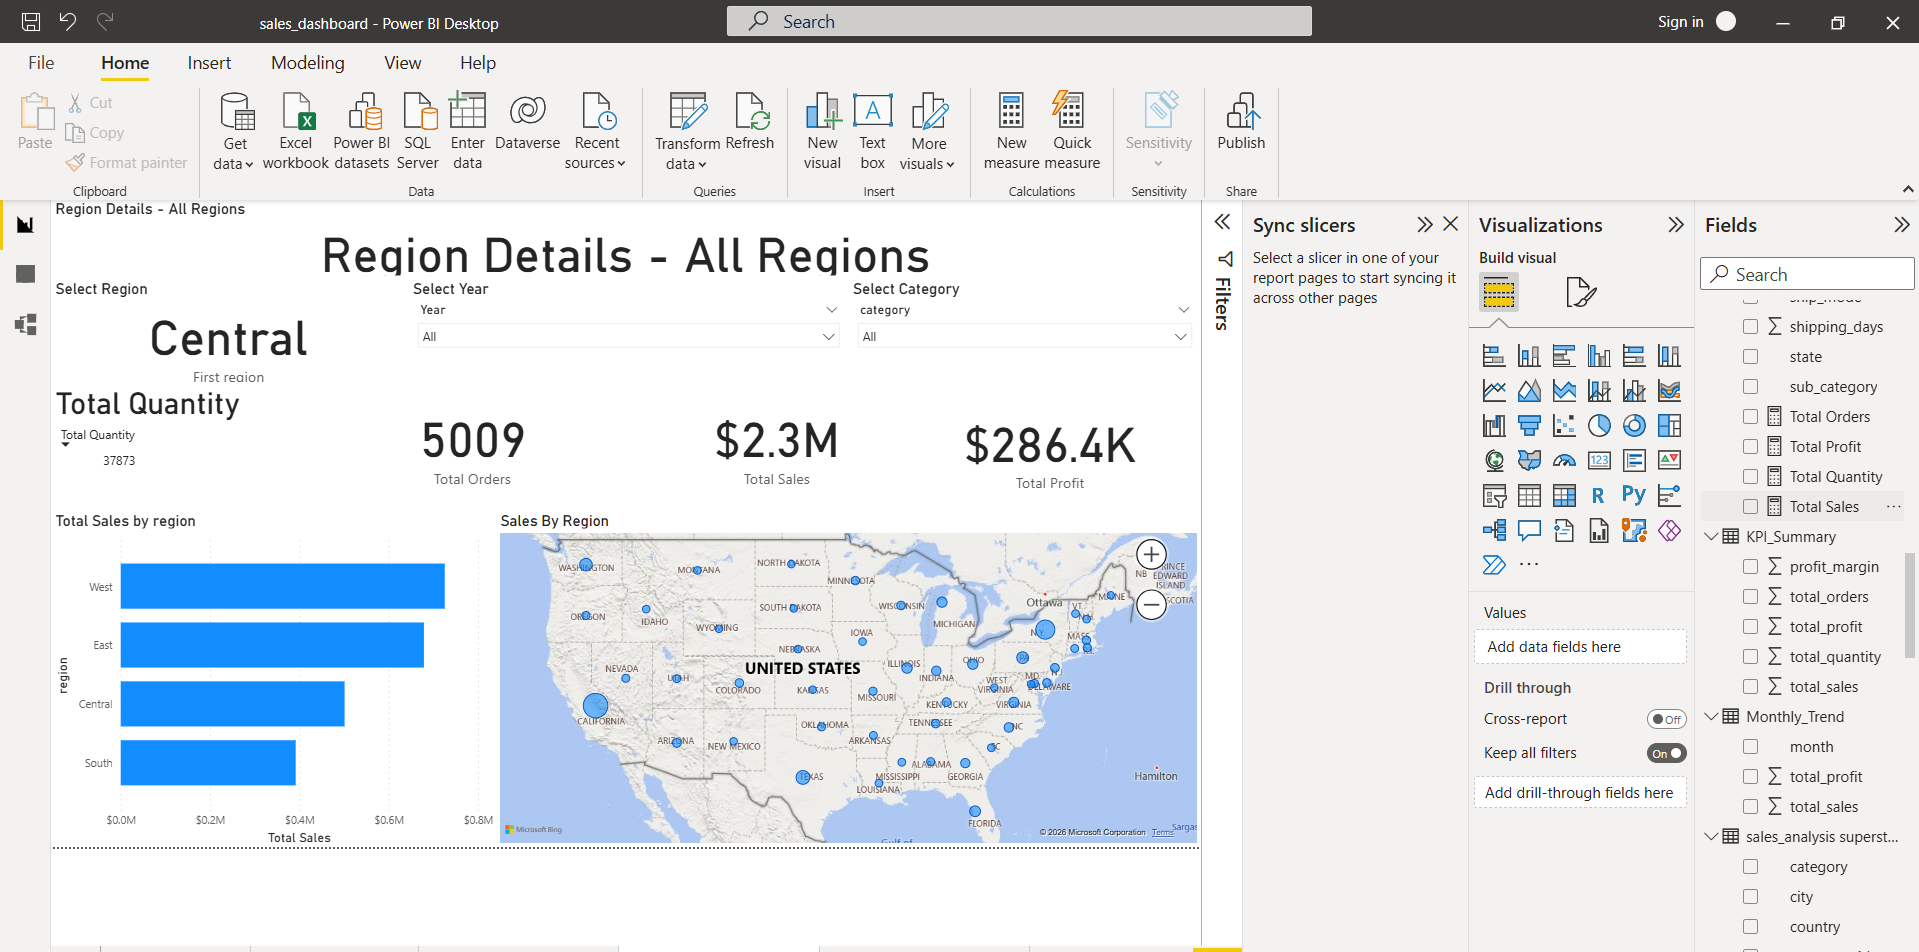

The dashboard page shown, as its layout file describes it:
{"tool":"powerbi","page":{"name":"Regional Performance","canvas":[1280,720],"ordinal":3},"visuals":[{"type":"tableEx","title":"Total Quantity","fields":{"Values":["Fact_sales.Total Quantity"]},"box":[0,207.8,279.9,128.4],"z":0},{"type":"map","title":"Sales By Region","fields":{"Category":["Fact_sales.state"],"Size":["Fact_sales.Total Sales"]},"box":[495.1,345.9,784.8,374.1],"z":1000},{"type":"slicer","title":"Select Year","fields":{"Values":["Date_Dim.Year"]},"box":[397.3,89.2,490.2,118.6],"z":2000},{"type":"slicer","title":"Select Category","fields":{"Values":["Fact_sales.category"]},"box":[887.5,89.2,392.4,118.6],"z":3000},{"type":"card","title":"Select Region","fields":{"Values":["Min(Fact_sales.region)"]},"box":[0,89.2,396.1,118.6],"z":4000},{"type":"card","fields":{"Values":["Fact_sales.Total Orders"]},"box":[279.9,207.8,378.9,128.4],"z":5000},{"type":"card","fields":{"Values":["Fact_sales.Total Sales"]},"box":[640.5,207.8,336.2,128.4],"z":6000},{"type":"card","fields":{"Values":["Fact_sales.Total Profit"]},"box":[944.9,207.8,334.9,138.1],"z":7000},{"type":"clusteredBarChart","fields":{"Category":["Fact_sales.region"],"Y":["Fact_sales.Total Sales"]},"box":[0,345.9,497.5,376.5],"z":8000},{"type":"card","fields":{"Values":["Category_Performance.Region Details Title"]},"box":[0,0,1279.9,89.2],"z":9000}]}

Visuals, with their boxes on the page's 1280x720 design canvas (x1, y1, x2, y2). These are canvas units, not pixel positions in the 1919x952 screenshot, which may show the page scaled, cropped or inside an application window:
"Total Quantity" tableEx: <box>0,208,280,336</box>
"Sales By Region" map: <box>495,346,1280,720</box>
"Select Year" slicer: <box>397,89,888,208</box>
"Select Category" slicer: <box>888,89,1280,208</box>
"Select Region" card: <box>0,89,396,208</box>
card - Fact_sales.Total Orders: <box>280,208,659,336</box>
card - Fact_sales.Total Sales: <box>640,208,977,336</box>
card - Fact_sales.Total Profit: <box>945,208,1280,346</box>
clusteredBarChart - Fact_sales.region x Fact_sales.Total Sales: <box>0,346,498,722</box>
card - Category_Performance.Region Details Title: <box>0,0,1280,89</box>
